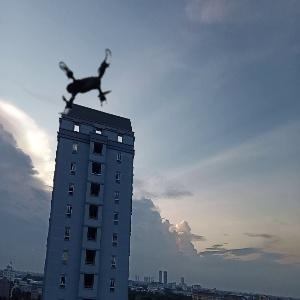drone: (36, 34, 128, 126)
